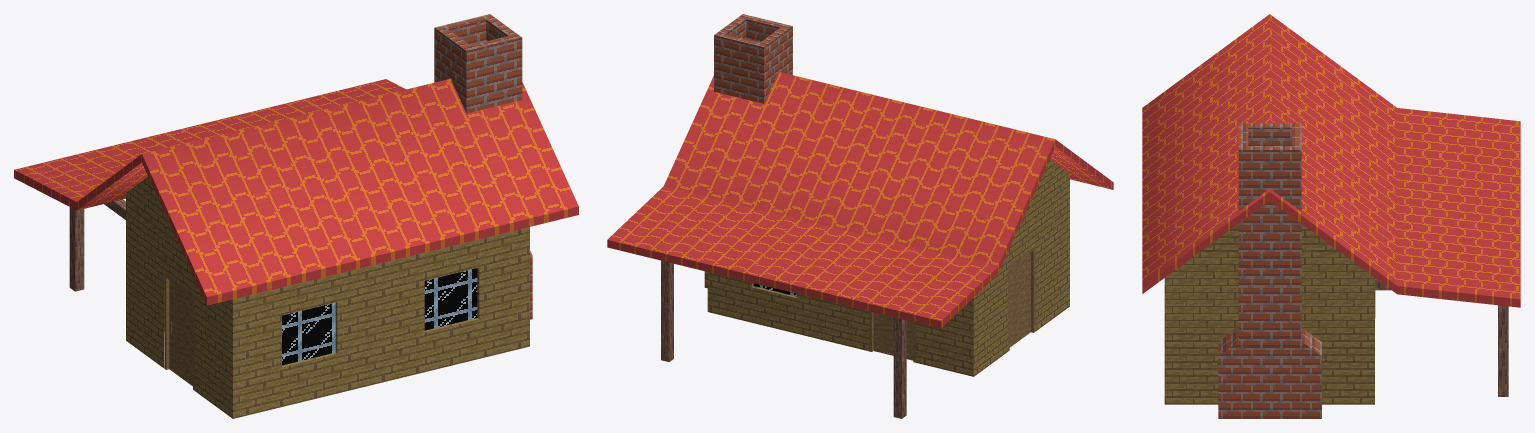
Rendered from Casa2.fbx.
3 renders of one model, left to right at view 1: azimuth 30°, elevation 25°; view 2: azimuth 150°, elevation 25°; view 3: azimuth 270°, elevation 25°, orthographic. The views are drawn at different scales.
Parts seen in each view (by area): view 1: telhado, Box001, Box002, Box003; view 2: telhado, Box001, Box002, Box003; view 3: telhado, Box002, Box001, Box003.
Boxes of the visible parts, left/top/right/bottom form: telhado: left=14, top=78, right=578, bottom=305; Box001: left=126, top=177, right=529, bottom=418; Box002: left=434, top=14, right=532, bottom=319; Box003: left=69, top=199, right=125, bottom=291; telhado: left=607, top=72, right=1113, bottom=328; Box001: left=707, top=159, right=1069, bottom=376; Box002: left=704, top=14, right=792, bottom=288; Box003: left=661, top=260, right=906, bottom=418; telhado: left=1142, top=14, right=1520, bottom=307; Box002: left=1218, top=123, right=1321, bottom=418; Box001: left=1164, top=223, right=1375, bottom=404; Box003: left=1375, top=278, right=1508, bottom=396.
Size of the model in its own units: 1003 by 706 by 900.
Materials: 9 (7 with a texture image).
